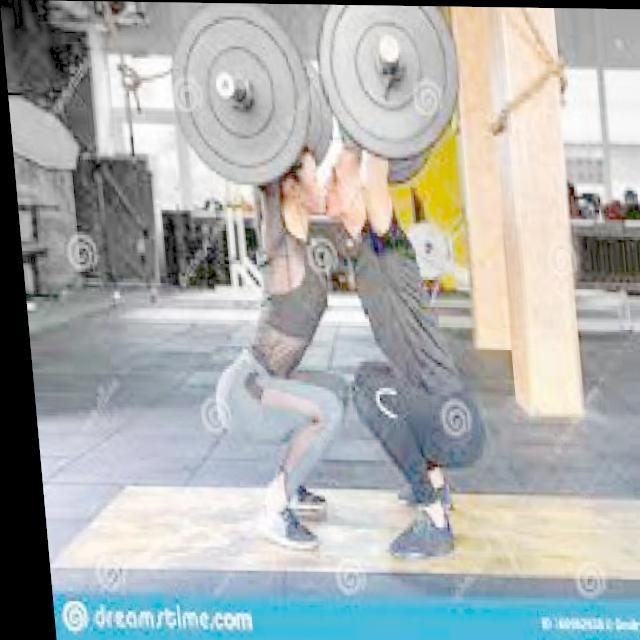barbell: (158, 3, 317, 188), (309, 5, 469, 166)
